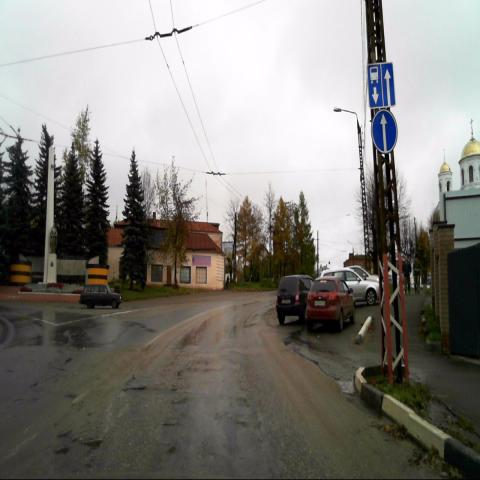5_11: (367, 64, 395, 109)
